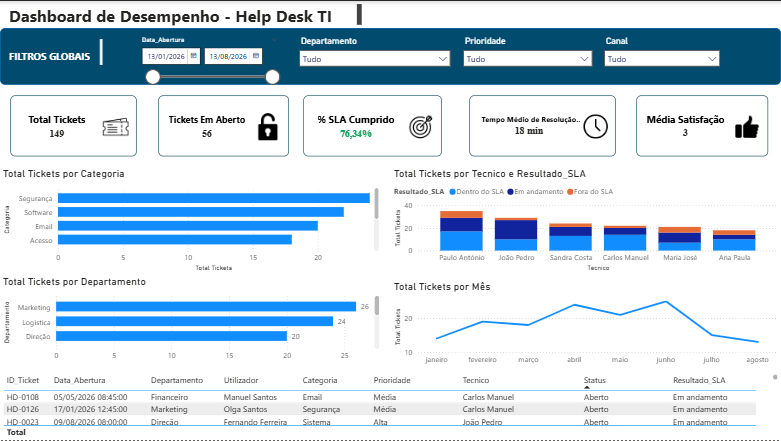

Layout of this report page (visuals, bound fields, positions):
{"tool":"powerbi","page":{"name":"Página 1","canvas":[1280,720],"ordinal":0},"visuals":[{"type":"textbox","box":[10,0,588.3,45],"z":0},{"type":"shape","box":[0,44.3,1280,93.4],"z":1000},{"type":"slicer","fields":{"Values":["tbl_Tickets.Prioridade"]},"box":[748.3,51.7,231.7,66.7],"z":2000},{"type":"slicer","fields":{"Values":["tbl_Tickets.Canal"]},"box":[980,51.7,210,66.7],"z":3000},{"type":"slicer","fields":{"Values":["tbl_Tickets.Data_Abertura"]},"box":[220,51.7,248.3,86.7],"z":4000},{"type":"slicer","fields":{"Values":["tbl_Tickets.Departamento"]},"box":[480,51.7,268.3,66.7],"z":5000},{"type":"textbox","box":[10,51.7,210,86.7],"z":6000},{"type":"cardVisual","fields":{"Data":["_Medidas.% SLA Cumprido"]},"box":[480.2,138.5,261.5,134.1],"z":7000},{"type":"cardVisual","fields":{"Data":["_Medidas.Média Satisfação"]},"box":[1026,138,250,134],"z":8000},{"type":"clusteredBarChart","fields":{"Y":["_Medidas.Total Tickets"],"Category":["tbl_Tickets.Categoria"]},"box":[0,272,626,176],"z":9000},{"type":"lineStackedColumnComboChart","fields":{"Category":["tbl_Tickets.Tecnico"],"Y":["_Medidas.Total Tickets"],"Series":["tbl_Tickets.Resultado_SLA"]},"box":[640,272,640,176],"z":10000},{"type":"lineChart","fields":{"Category":["tbl_Tickets.Data_Abertura.Variação.Hierarquia de Datas.Mês","tbl_Tickets.Data_Abertura.Variação.Hierarquia de Datas.Dia"],"Y":["_Medidas.Total Tickets"]},"box":[640,458,636,148],"z":11000},{"type":"tableEx","fields":{"Values":["tbl_Tickets.ID_Ticket","tbl_Tickets.Data_Abertura","tbl_Tickets.Departamento","tbl_Tickets.Utilizador","tbl_Tickets.Categoria","tbl_Tickets.Prioridade","tbl_Tickets.Tecnico","tbl_Tickets.Status","tbl_Tickets.Resultado_SLA"]},"box":[0,606,1280,114],"z":12000},{"type":"cardVisual","fields":{"Data":["_Medidas.TM de Resolução (Horas)"]},"box":[752,138,274,134],"z":13000},{"type":"cardVisual","fields":{"Data":["_Medidas.Tickets Em Aberto"]},"box":[242,138,248,134],"z":14000},{"type":"cardVisual","fields":{"Data":["_Medidas.Total Tickets"]},"box":[0,137.4,241.8,134.1],"z":15000},{"type":"clusteredBarChart","fields":{"Y":["_Medidas.Total Tickets"],"Category":["tbl_Tickets.Departamento"]},"box":[0,448.3,626.7,150],"z":16000}]}

Visuals, with their boxes in screenshot pixels (x1, y1, x2, y2), scaled from the page's 1280x720 canvas onto the 781x441 screenshot:
textbox: x1=6, y1=0, x2=365, y2=28
shape: x1=0, y1=27, x2=780, y2=84
slicer - tbl_Tickets.Prioridade: x1=457, y1=32, x2=598, y2=73
slicer - tbl_Tickets.Canal: x1=598, y1=32, x2=726, y2=73
slicer - tbl_Tickets.Data_Abertura: x1=134, y1=32, x2=286, y2=85
slicer - tbl_Tickets.Departamento: x1=293, y1=32, x2=457, y2=73
textbox: x1=6, y1=32, x2=134, y2=85
cardVisual - _Medidas.% SLA Cumprido: x1=293, y1=85, x2=453, y2=167
cardVisual - _Medidas.Média Satisfação: x1=626, y1=85, x2=779, y2=167
clusteredBarChart - _Medidas.Total Tickets x tbl_Tickets.Categoria: x1=0, y1=167, x2=382, y2=274
lineStackedColumnComboChart - tbl_Tickets.Tecnico x _Medidas.Total Tickets: x1=390, y1=167, x2=780, y2=274
lineChart - tbl_Tickets.Data_Abertura.Variação.Hierarquia de Datas.Mês x tbl_Tickets.Data_Abertura.Variação.Hierarquia de Datas.Dia: x1=390, y1=281, x2=779, y2=371
tableEx - tbl_Tickets.ID_Ticket x tbl_Tickets.Data_Abertura: x1=0, y1=371, x2=780, y2=440
cardVisual - _Medidas.TM de Resolução (Horas): x1=459, y1=85, x2=626, y2=167
cardVisual - _Medidas.Tickets Em Aberto: x1=148, y1=85, x2=299, y2=167
cardVisual - _Medidas.Total Tickets: x1=0, y1=84, x2=148, y2=166
clusteredBarChart - _Medidas.Total Tickets x tbl_Tickets.Departamento: x1=0, y1=275, x2=382, y2=366
